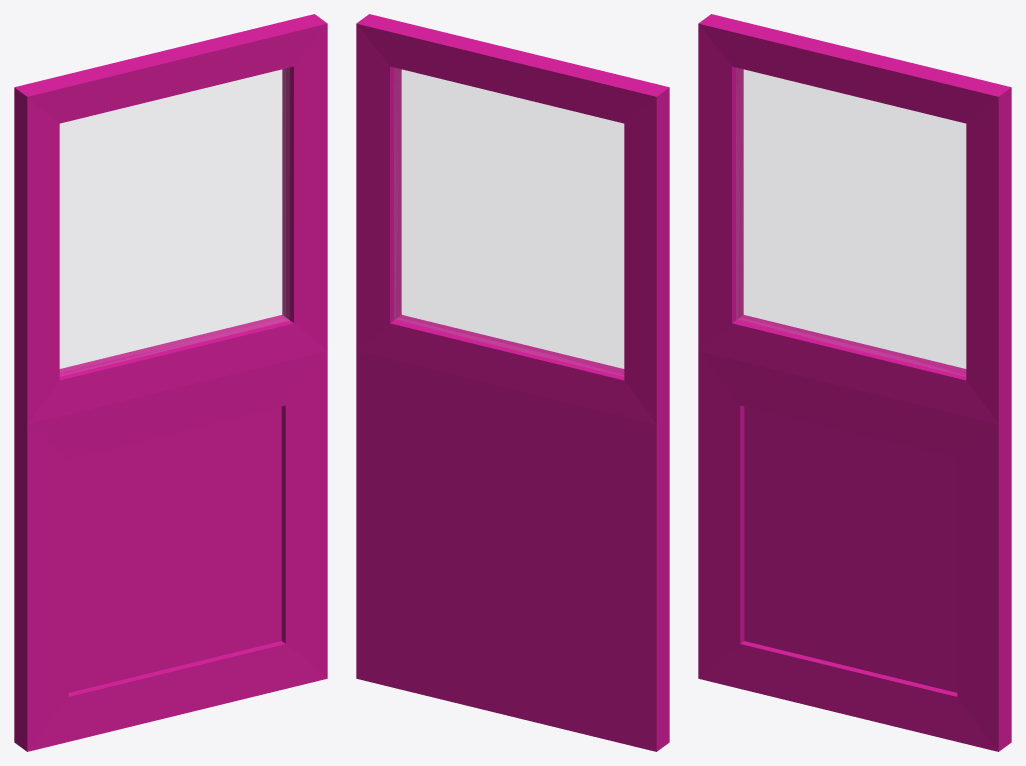
The model's file is Door.fbx.
3 views of the same model, side by side, from view 1: azimuth 30°, elevation 25°; view 2: azimuth 150°, elevation 25°; view 3: azimuth 330°, elevation 25° (orthographic).
Visible parts, largest first — view 1: Door; view 2: Door; view 3: Door.
Part boxes in pixels (x1,y1,x2,y2): Door: (14,14,327,751); Door: (356,14,669,751); Door: (698,14,1011,751).
Bounding box in the file's own units: 3.41 × 0.2578 × 7.11.
